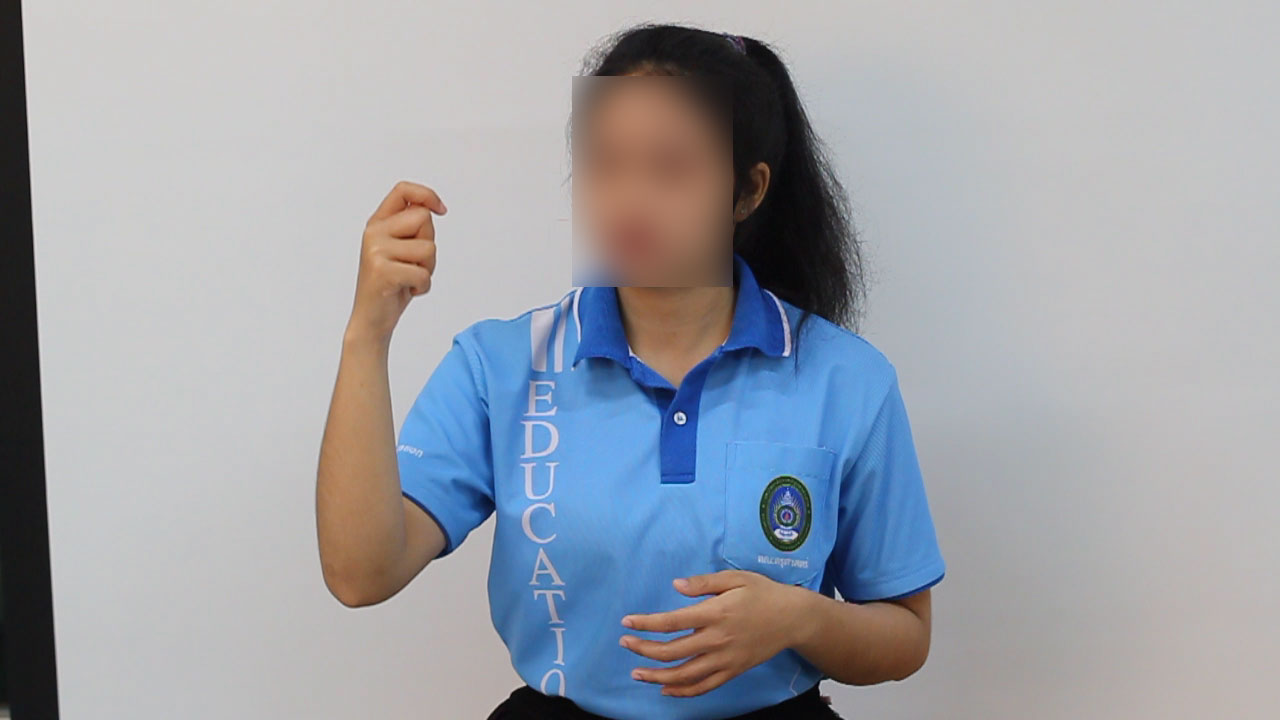or: (353, 172, 448, 338)
